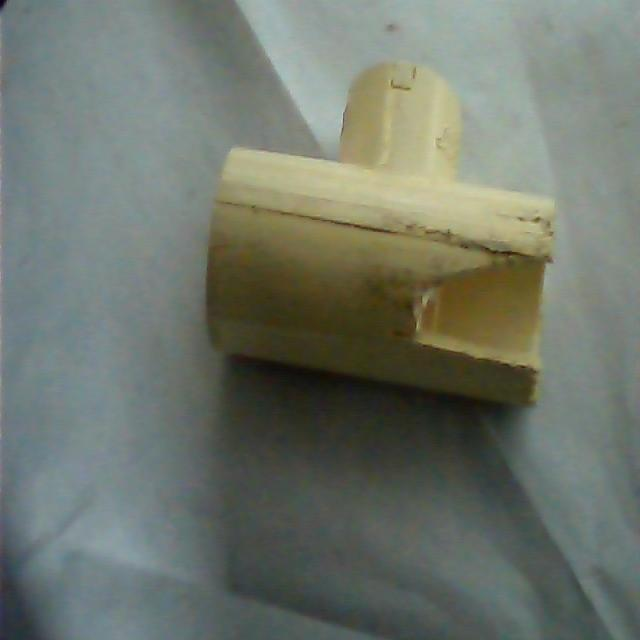Defective: (396, 191, 559, 417), (442, 261, 545, 369), (422, 288, 443, 345)
T Joint: (205, 61, 558, 410)
